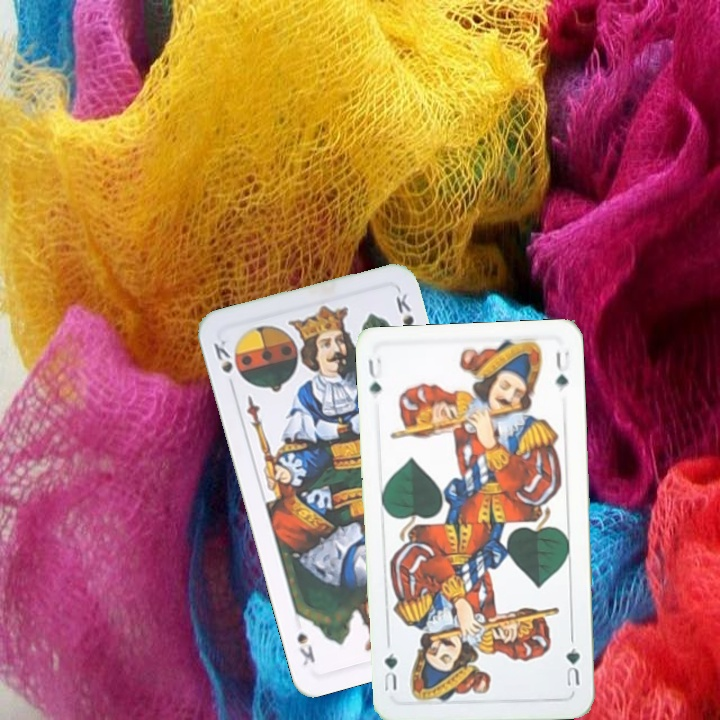GU: (561, 643, 583, 689), (364, 353, 385, 397)
SK: (209, 335, 237, 392)
